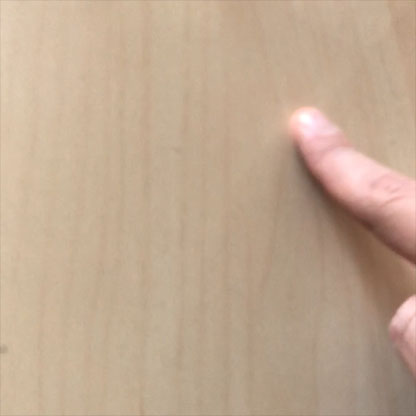fingertip: (286, 98, 343, 154)
